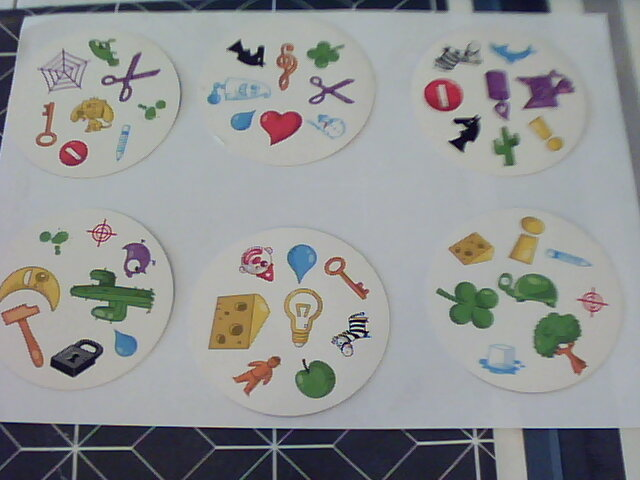ampoule: (283, 288, 328, 351)
arbre: (530, 311, 591, 382)
bonhomme: (228, 355, 285, 399)
bonhomme_neige: (307, 112, 350, 143)
bougie: (488, 70, 514, 119)
cactus: (70, 270, 162, 327), (489, 123, 528, 170)
cadenas: (50, 334, 103, 380)
chat: (520, 72, 581, 112)
cheval: (448, 116, 483, 157), (227, 39, 269, 72)
chien: (71, 98, 117, 136)
cible: (84, 219, 118, 254), (578, 285, 609, 317)
ciseau: (101, 51, 162, 103), (305, 74, 357, 105)
cle: (323, 254, 372, 301), (28, 99, 58, 149)
clown: (231, 247, 285, 283)
coeur: (261, 108, 307, 148)
crayon: (546, 244, 596, 269), (113, 123, 132, 164)
dauphin: (491, 38, 542, 65)
dinosore: (87, 36, 122, 69)
fantome: (203, 77, 274, 106)
fromage: (203, 291, 273, 352), (448, 232, 496, 265)
glacon: (477, 336, 527, 377)
goutte: (289, 243, 320, 285), (111, 330, 139, 358), (228, 110, 258, 133)
lune: (1, 264, 62, 314)
marteau: (3, 304, 46, 375)
note: (276, 40, 299, 97)
oiseau: (122, 239, 159, 277)
point_exclamation: (507, 215, 544, 267), (529, 115, 565, 155)
pomme: (290, 357, 348, 400)
sens_interdit: (425, 76, 466, 115), (58, 136, 89, 170)
tache: (36, 227, 74, 259), (128, 102, 172, 121)
toile: (37, 46, 86, 93)
tortue: (501, 272, 567, 309)
trefle: (434, 278, 500, 332), (307, 41, 347, 70)
zebre: (331, 307, 375, 356), (435, 40, 485, 75)
